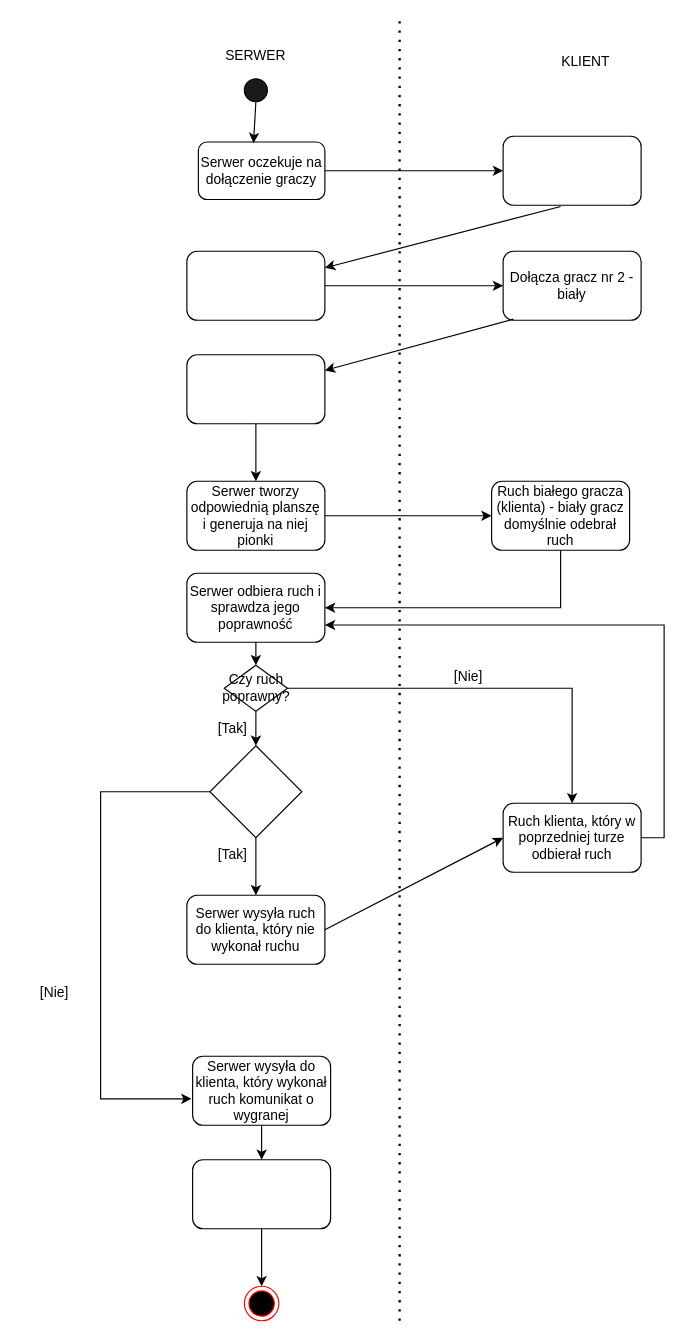
The diagram is 695 pixels wide and 1342 high, and some of its shapes have lost their labels. The shapes that lost their labels are listed below. From the top down, each one's centre as x and y in pixels, then its label:
(571,170): Dołącza gracz nr 1 - Czarny
(255,285): Serwer czeka na drugiego gracza
(255,389): Gracze wybierają na serwerze wariant gry - klasyczny
(255,791): Czy przeciwny gracz ma jeszcze pionki?
(261,1194): Serwer wysyła do drugiego klienta komunikat o przegranej
